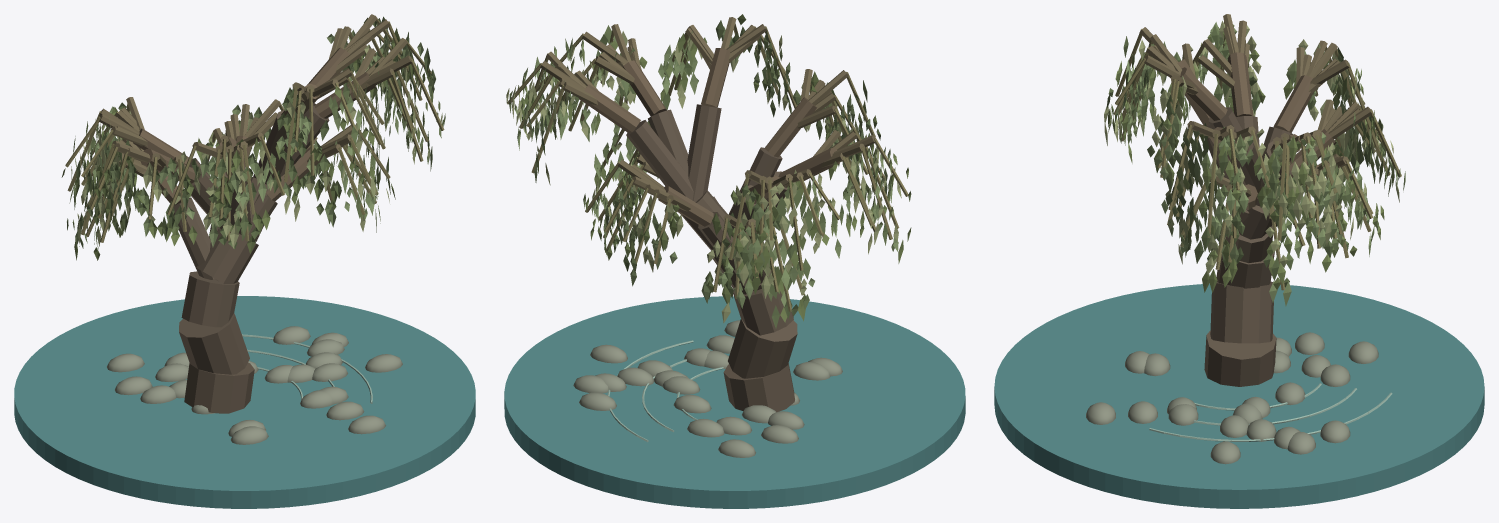
Rendered from lone_tree.glb.
3 views of the same model, side by side, from view 1: azimuth 30°, elevation 25°; view 2: azimuth 150°, elevation 25°; view 3: azimuth 270°, elevation 25° (orthographic). The views are drawn at different scales.
Parts seen in each view (by area): view 1: LoneTree; view 2: LoneTree; view 3: LoneTree.
Part boxes in pixels (x1,y1,x2,y2): LoneTree: [14, 14, 475, 508]; LoneTree: [504, 14, 965, 508]; LoneTree: [994, 14, 1484, 508].
Bounding box in the file's own units: 1 × 0.8434 × 0.9929.
